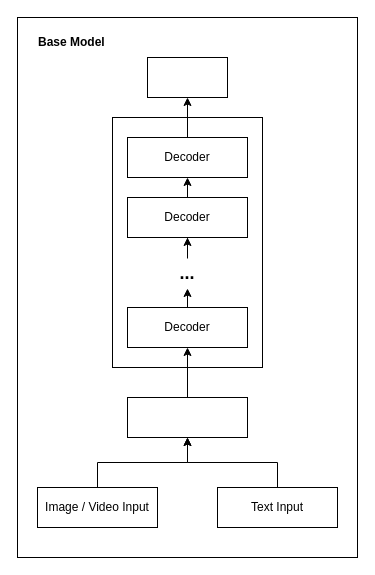
Image size: 375x575. Some labels were removed from this diagram. The centre of each missing label's shape, as x and y in pixels:
"Logit Output" goes at [187,77].
"多模态融合" goes at [187,417].
